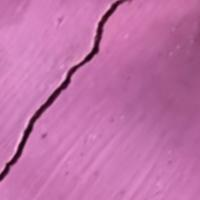crack: (0, 3, 132, 184)
